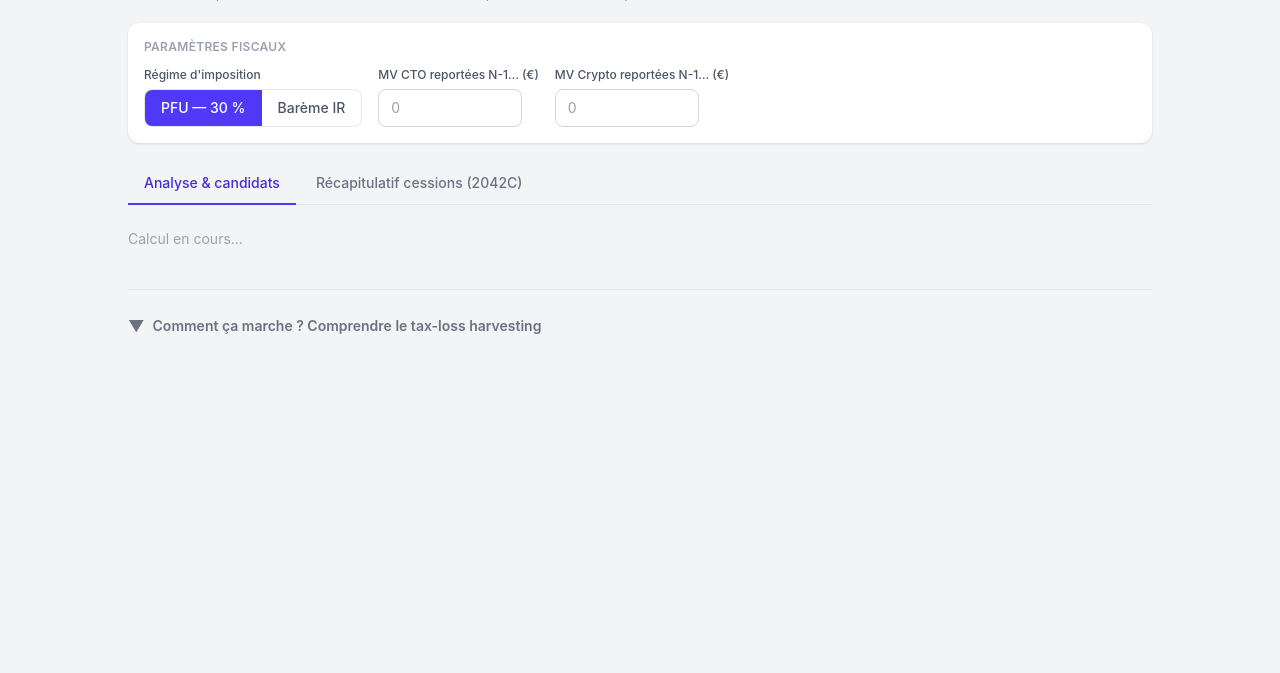
Scenario: TaxLossHarvestingPage › affiche le tableau des cessions en cliquant sur l'onglet Récapitulatif
Click the button "Récapitulatif cessions (2042C)".
click(419, 184)  # box [300, 163, 538, 205]
(page scrolled)
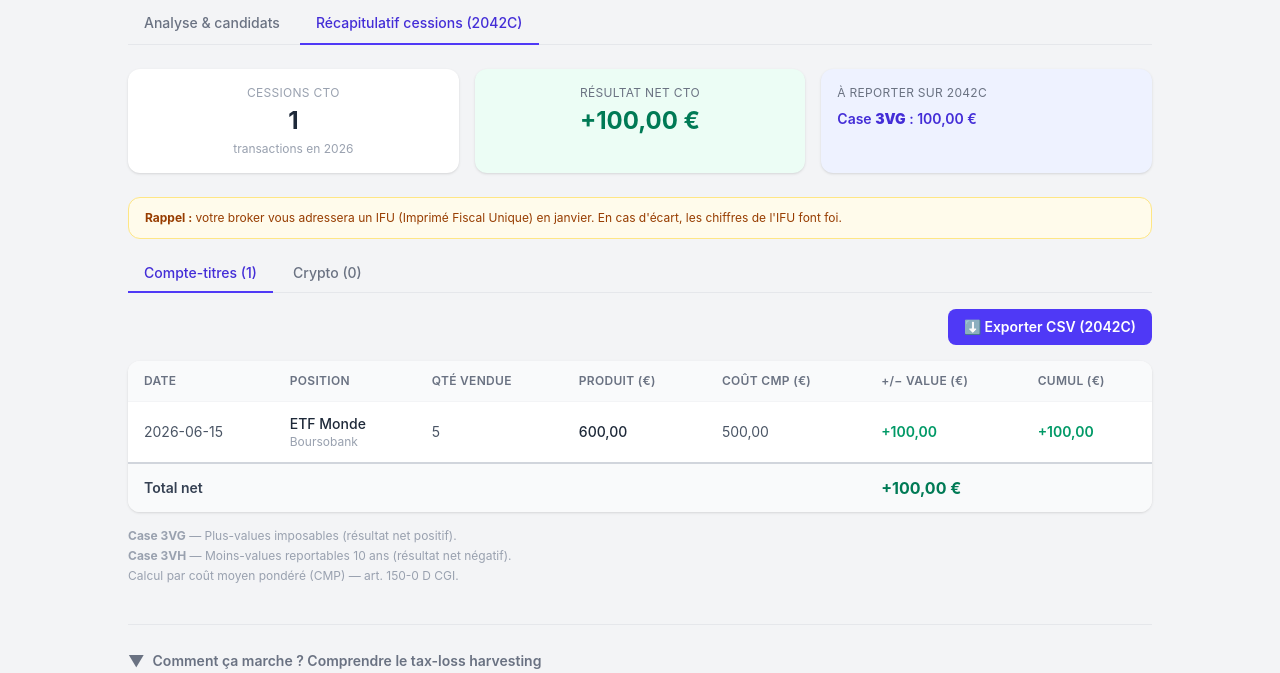
Expected: the text "ETF Monde" is shown, [290, 415, 366, 432]
Expected: the text "Case 3VG" is shown, [128, 528, 186, 543]
